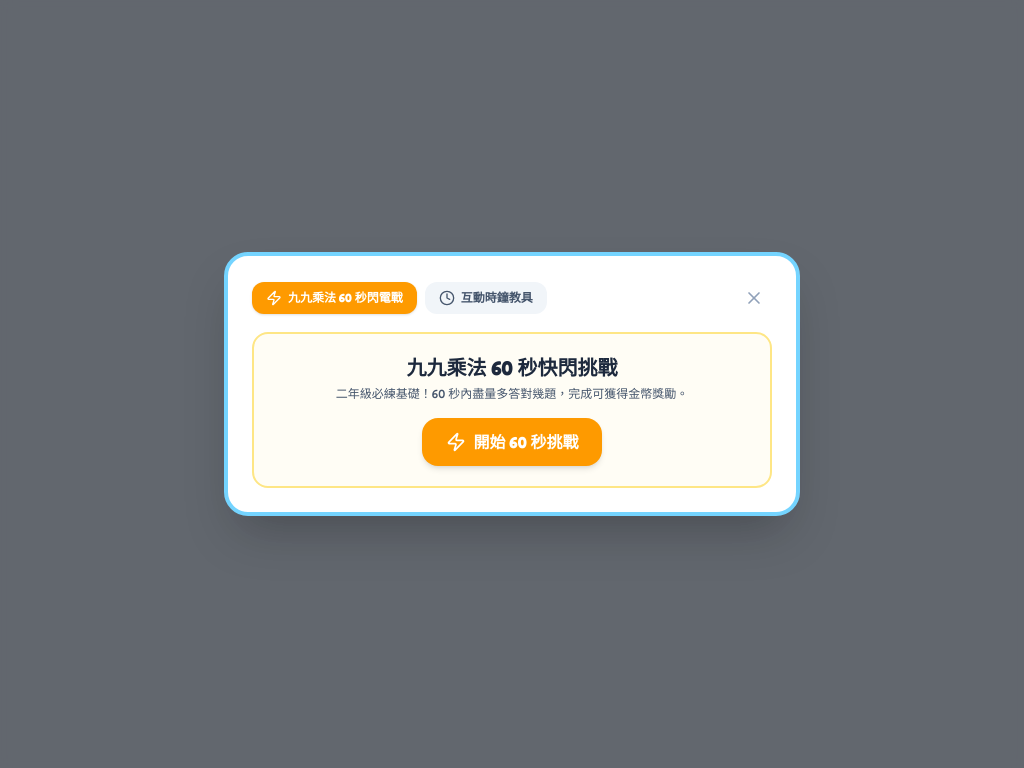
Scenario: Engagement, Hanzi & Deep Teaching Features › MathToolsModal switches between 9x9 blitz and interactive clock
Check: the heading "九九乘法 60 秒快閃挑戰" is shown, box 406,356 -> 618,380
Click the button "互動時鐘教具": (486,298) 425,282 -> 547,314
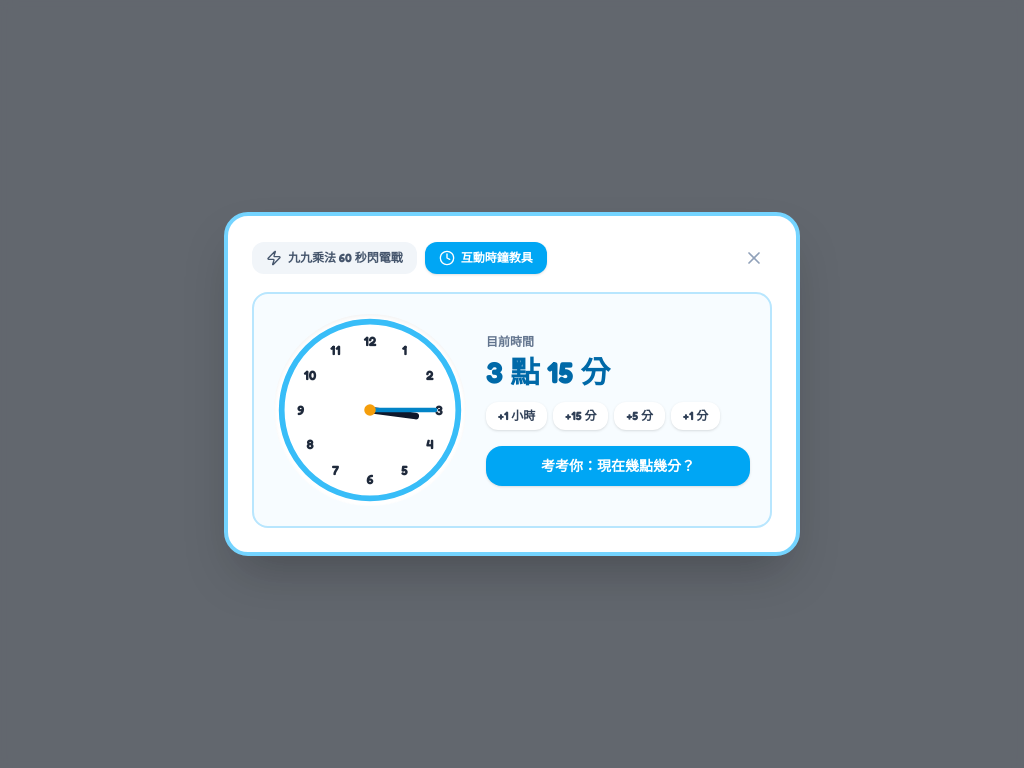
Check: the text "3 點 15 分" is shown, box 486,354 -> 610,390
Click the button "+15 分": (581,416) 553,402 -> 608,430
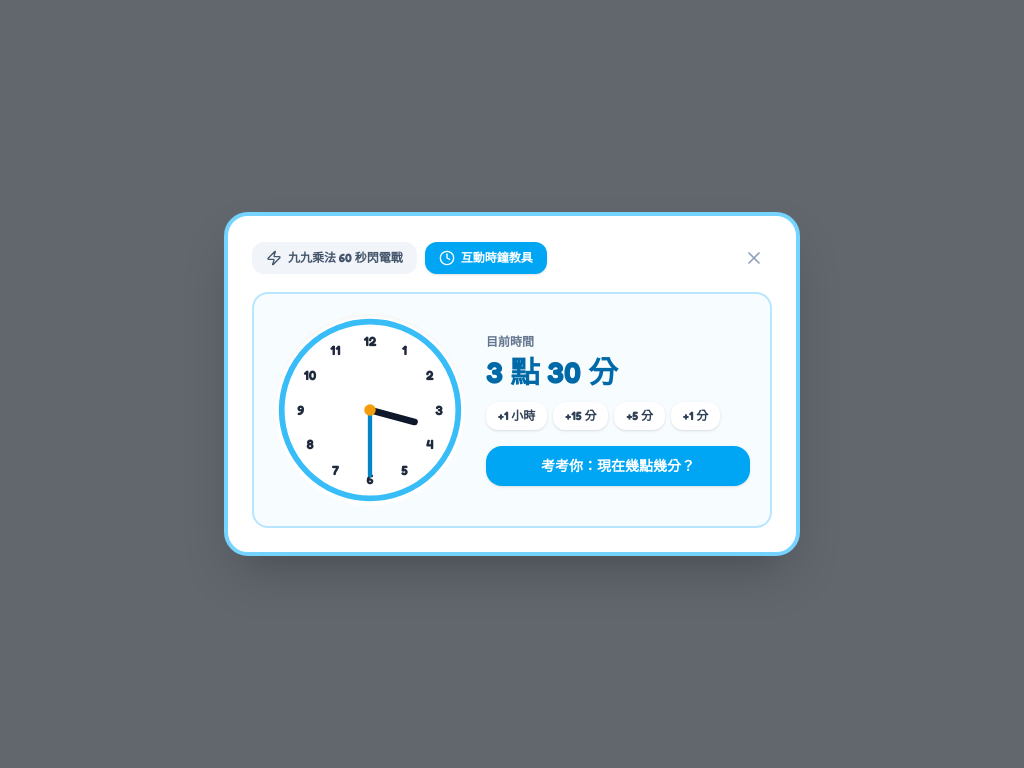
Check: the text "3 點 30 分" is shown, box 486,354 -> 618,390
